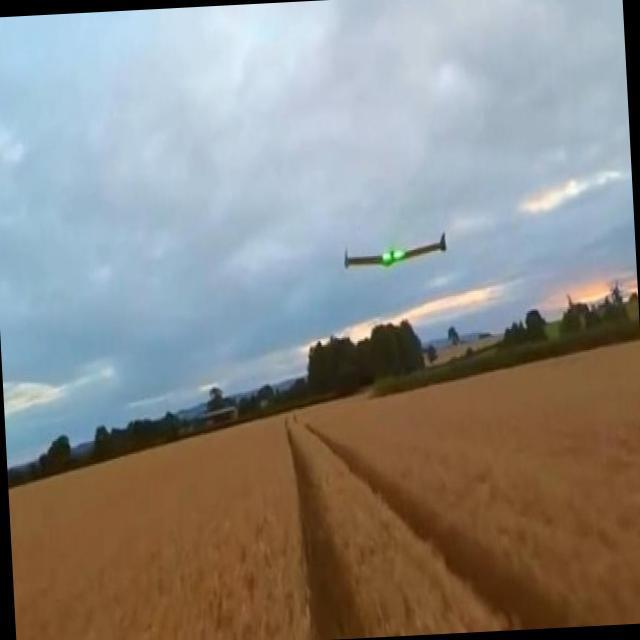iha: (308, 228, 466, 284)
